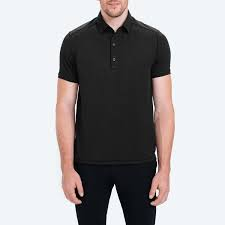C_polo shirt: (39, 10, 179, 170)
